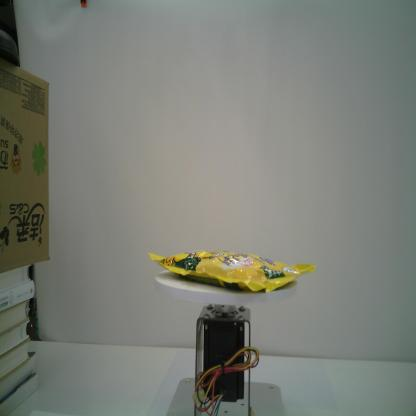Seasoner: (147, 249, 316, 294)
